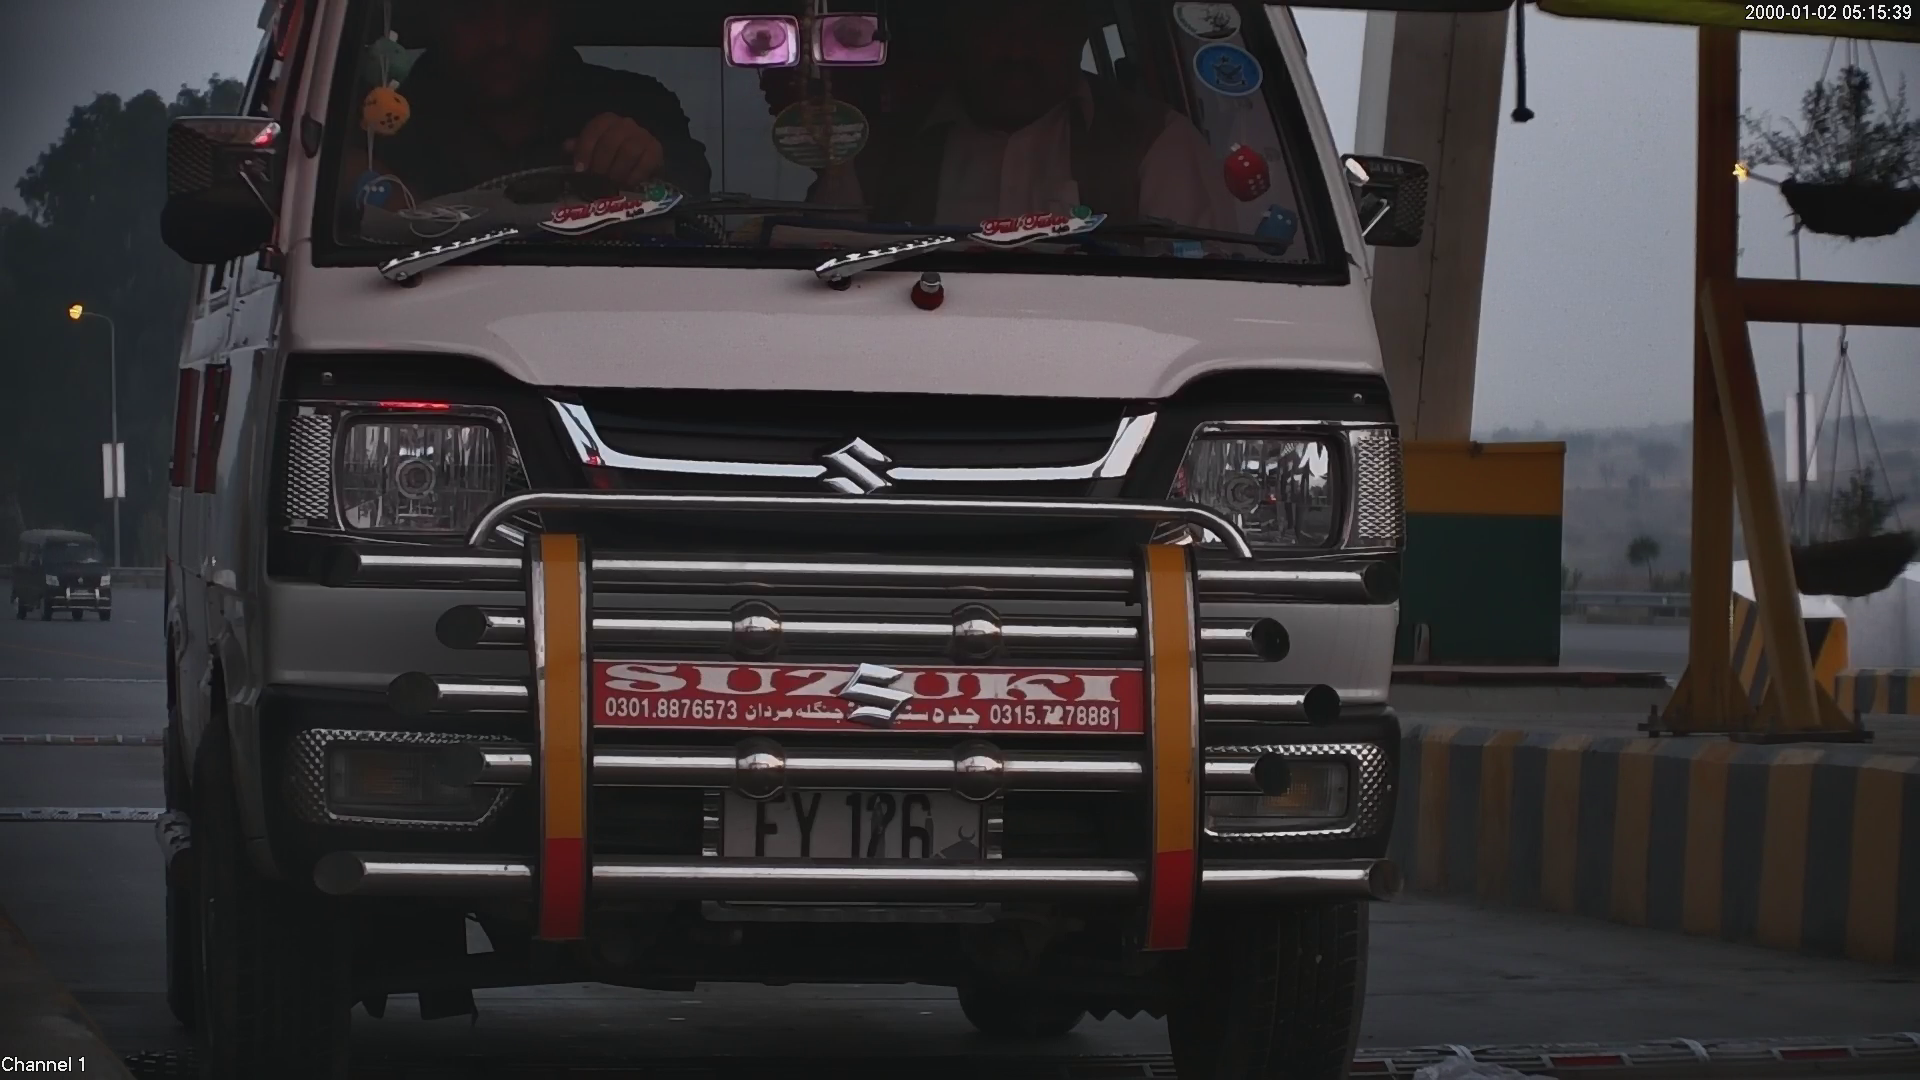Number_Plate: (715, 774, 989, 886)
